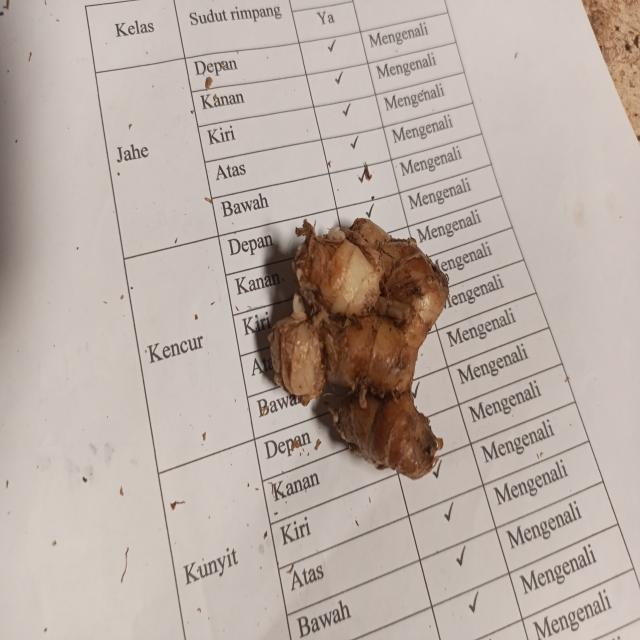ginger: (280, 215, 439, 470)
